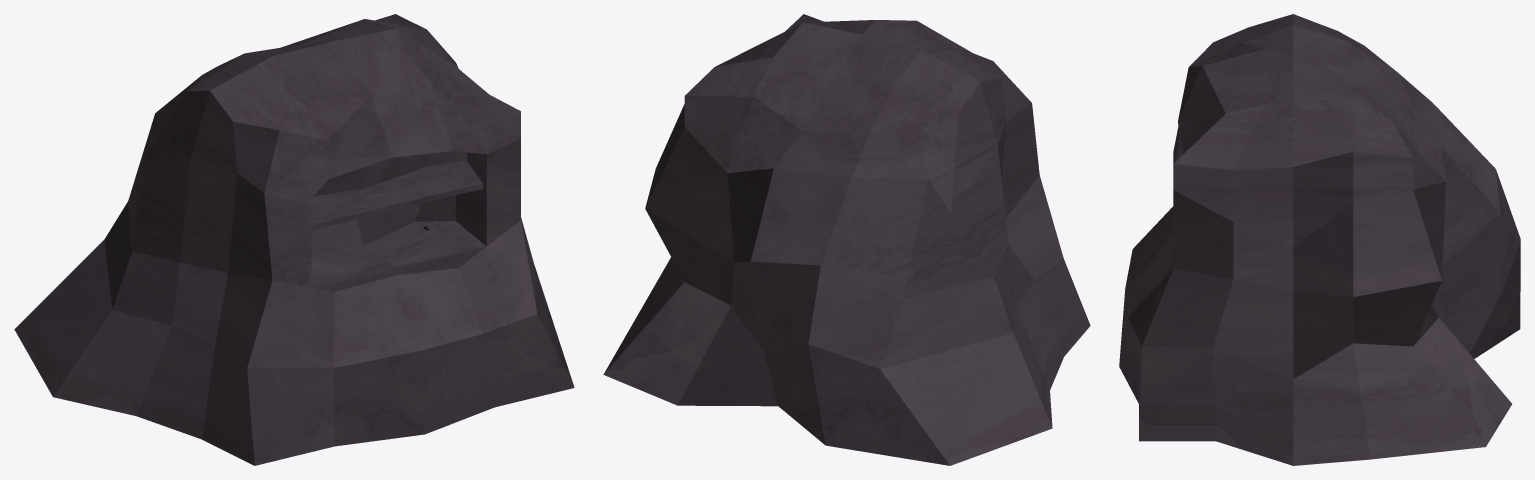
The model's file is stone_cabinet1.fbx.
3 renders of one model, left to right at view 1: azimuth 30°, elevation 25°; view 2: azimuth 150°, elevation 25°; view 3: azimuth 270°, elevation 25°, orthographic. The views are drawn at different scales.
Parts seen in each view (by area): view 1: stone_cabinet1; view 2: stone_cabinet1; view 3: stone_cabinet1.
Boxes of the visible parts, bbox=[...] form: stone_cabinet1: bbox=[14, 14, 574, 465]; stone_cabinet1: bbox=[603, 14, 1090, 465]; stone_cabinet1: bbox=[1119, 14, 1520, 465].
Size of the model in its own units: 6.79 by 4.75 by 5.44.
1 material, 1 textured.
